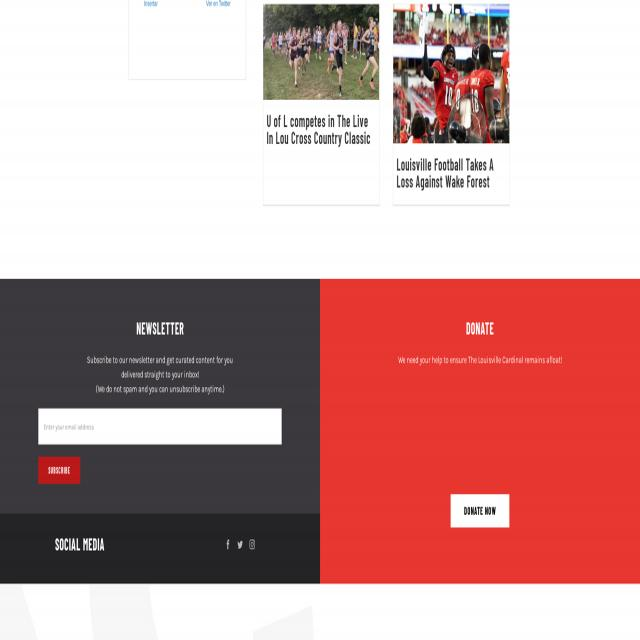button: (393, 4, 509, 143), (263, 4, 379, 100), (450, 495, 509, 528), (38, 457, 80, 484), (225, 539, 231, 549), (237, 539, 243, 549), (249, 539, 255, 549)
field: (38, 408, 282, 444)
